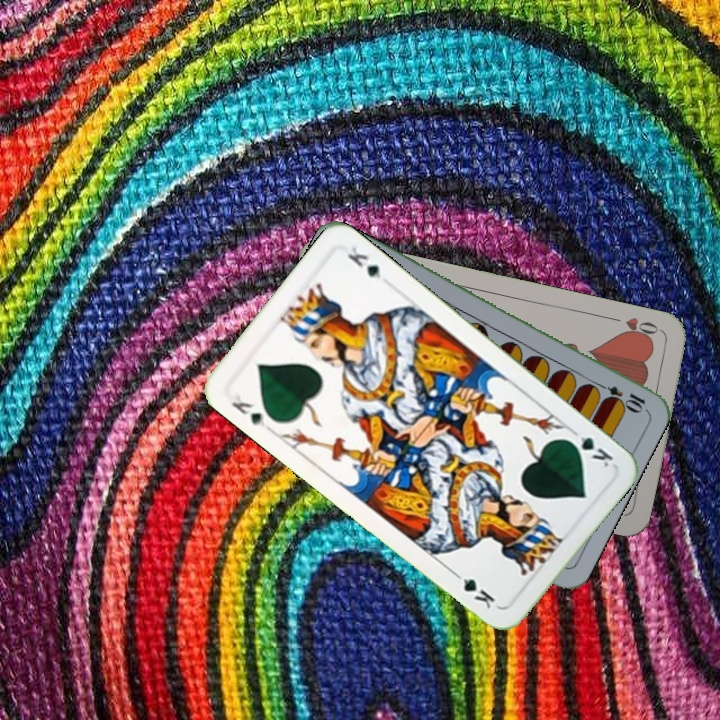E10: (591, 378, 648, 413)
GK: (562, 425, 616, 470), (227, 391, 273, 433)
HO: (607, 313, 665, 343)
